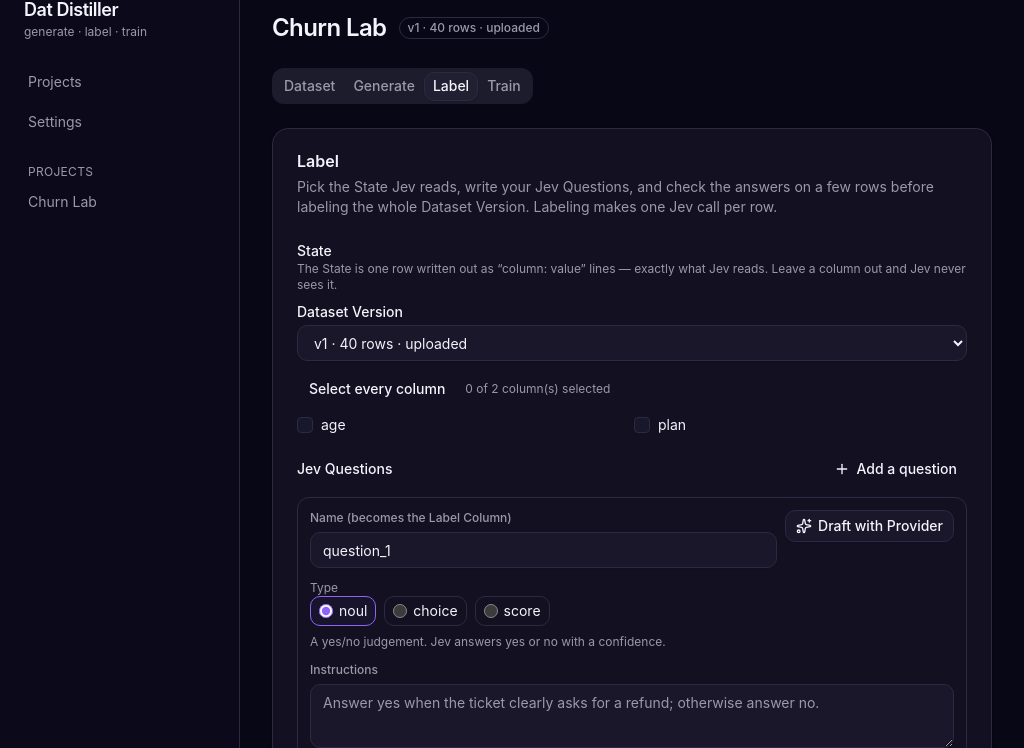
Test case: Label step — building questions by hand › adds and removes questions
Expected: the field labelled "Name (becomes the Label Column)" is shown, [310,532,777,568]
Click the button "Add a question" at (896, 469), box [824,453,967,485]
(page scrolled)
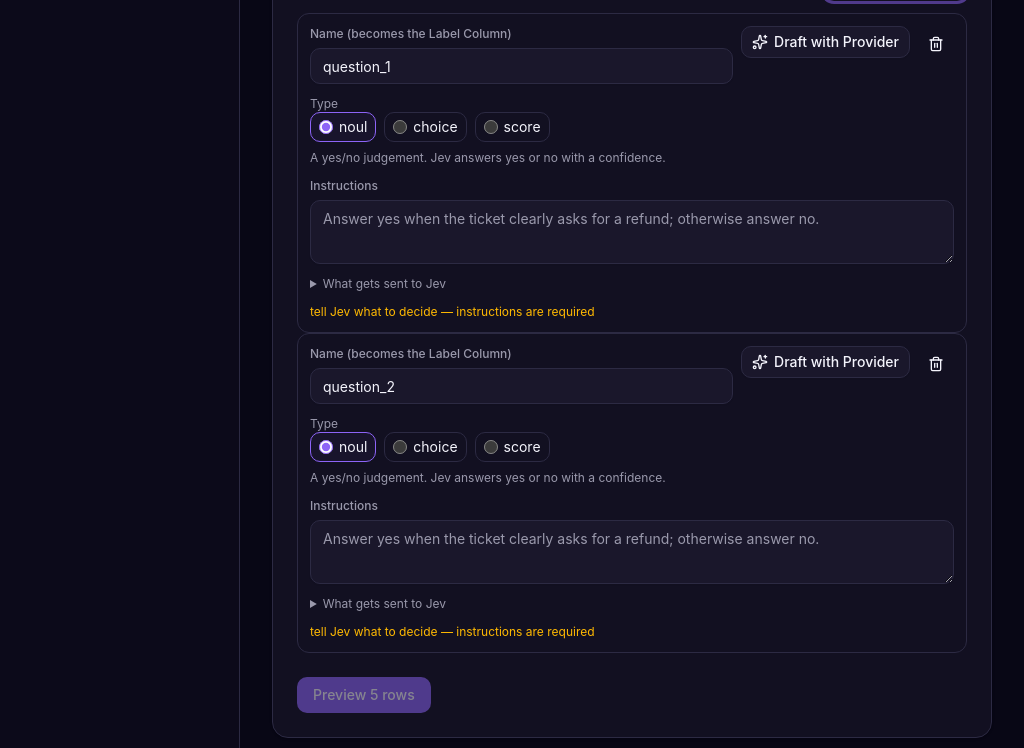
Now the number of fields labelled "Name (becomes the Label Column)" is 2, box [310,48,733,84]; [310,368,733,404]
Click the button named "Remove question 2" at (936, 364), box [918,346,954,382]
(page scrolled)
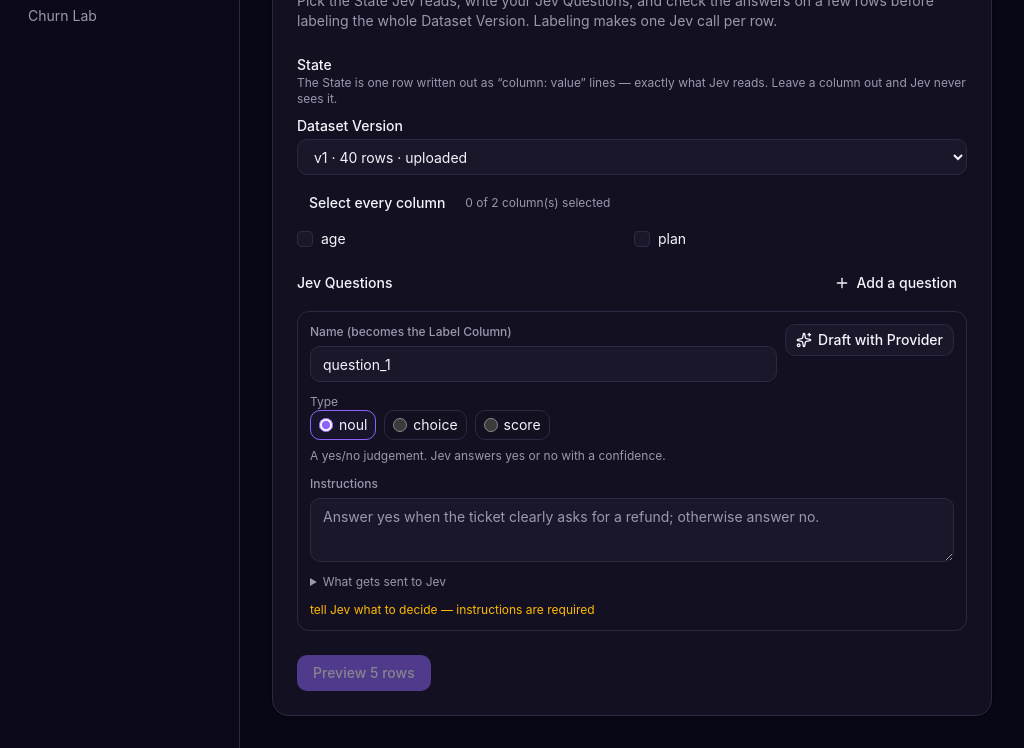
Now the number of fields labelled "Name (becomes the Label Column)" is 1, box [310,346,777,382]
